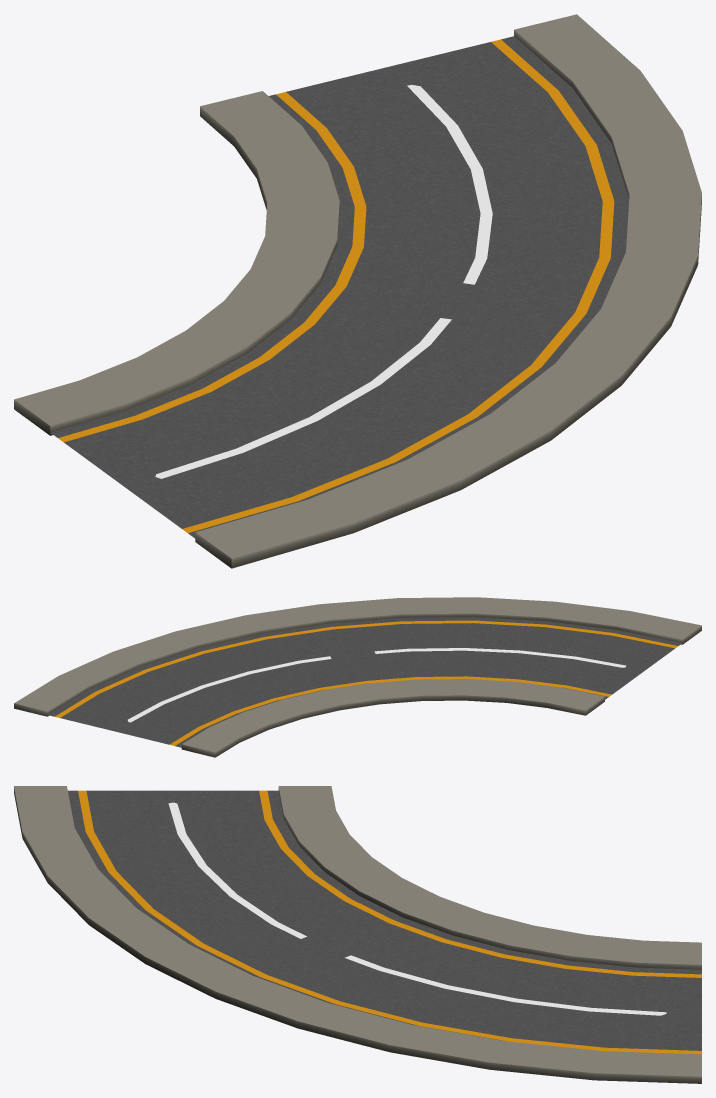
The model's file is Road5.fbx.
3 renders of one model, top to bottom at view 1: azimuth 30°, elevation 25°; view 2: azimuth 150°, elevation 25°; view 3: azimuth 270°, elevation 25°, orthographic. The views are drawn at different scales.
Visible parts, largest first — view 1: Road_1E; view 2: Road_1E; view 3: Road_1E.
Boxes of the visible parts, x1=… form: Road_1E: x1=14, y1=14, x2=701, y2=568; Road_1E: x1=14, y1=597, x2=701, y2=757; Road_1E: x1=14, y1=786, x2=701, y2=1083.
Bounding box in the file's own units: 48584 × 561 × 48584.
